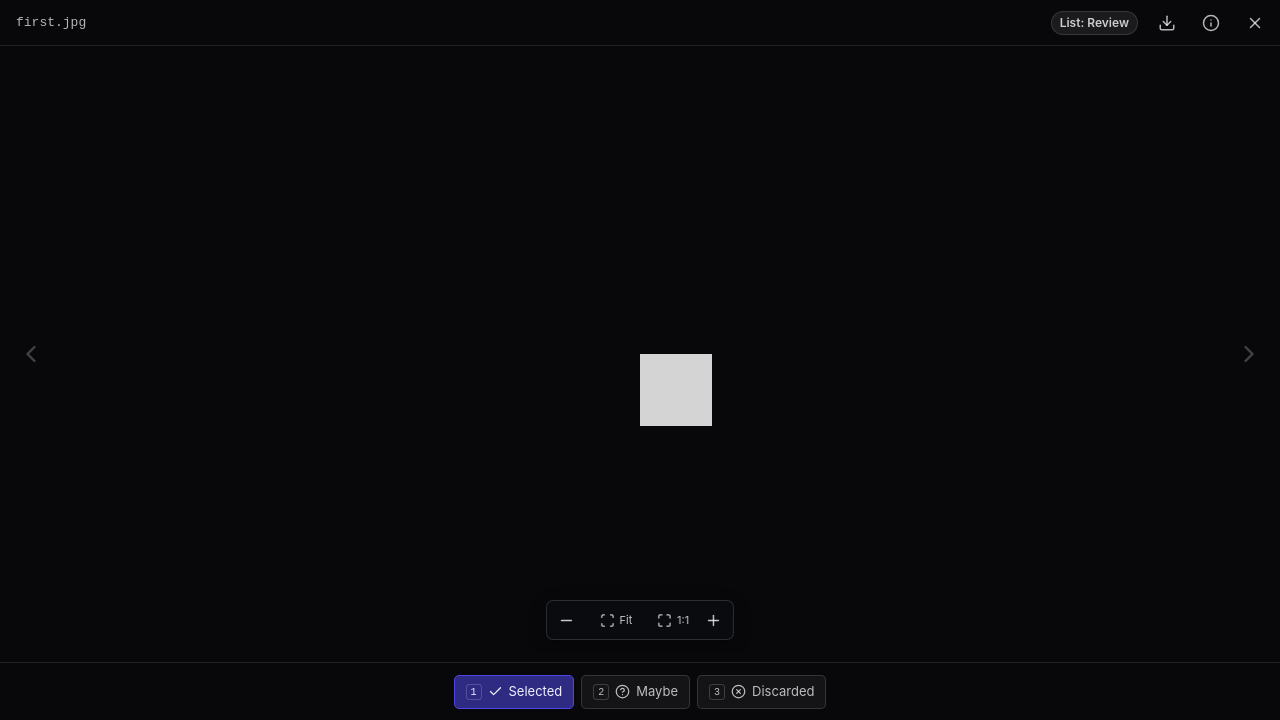
it: Viewer technical details › toggles the active classification without a separate Remove button
Click the button with aria-label "Remove selected status".
click(514, 692)  # box [454,674,574,708]
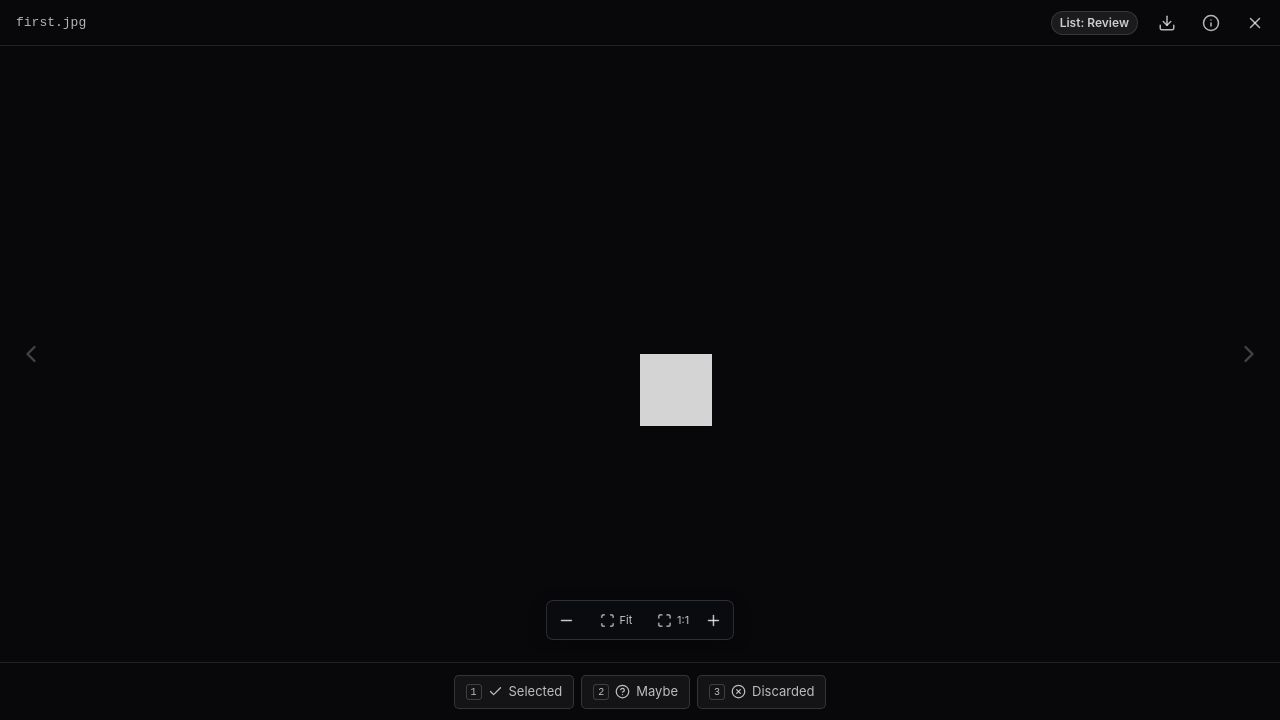
Now the button with aria-label "Mark selected" is not pressed, box [454,674,574,708]
Press 1
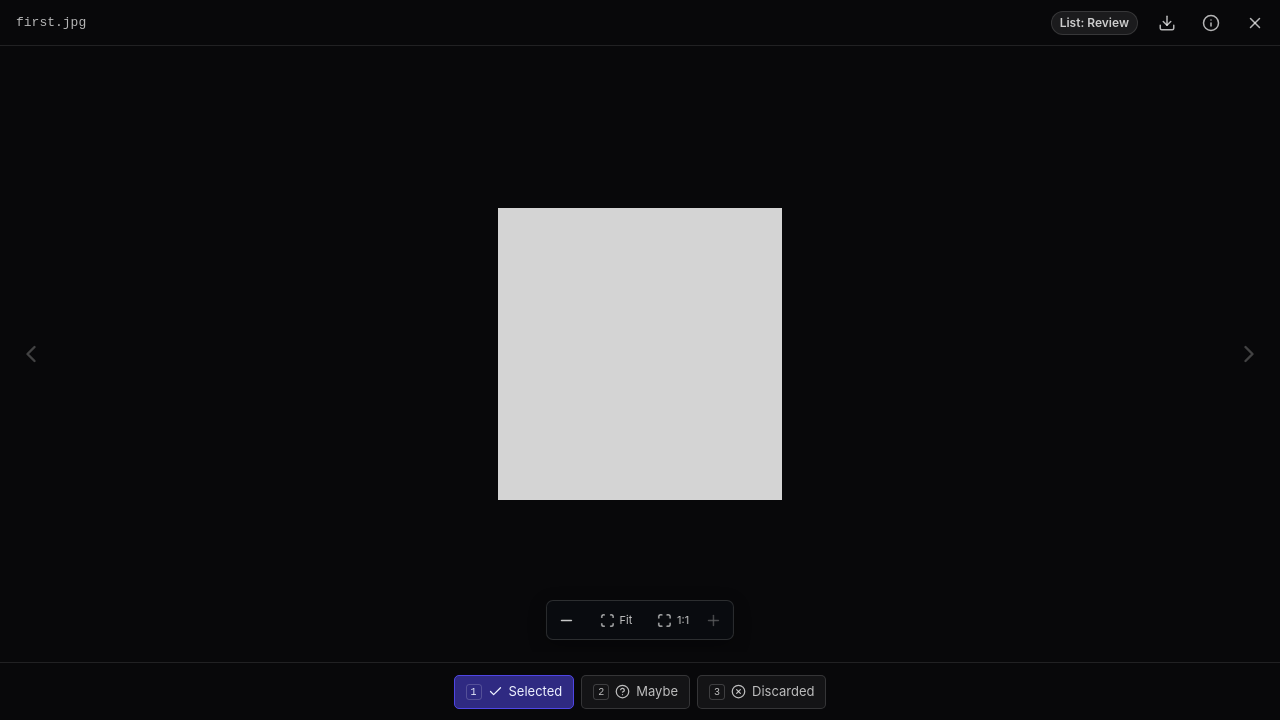
Now the button with aria-label "Remove selected status" is shown, box [454,674,574,708]
